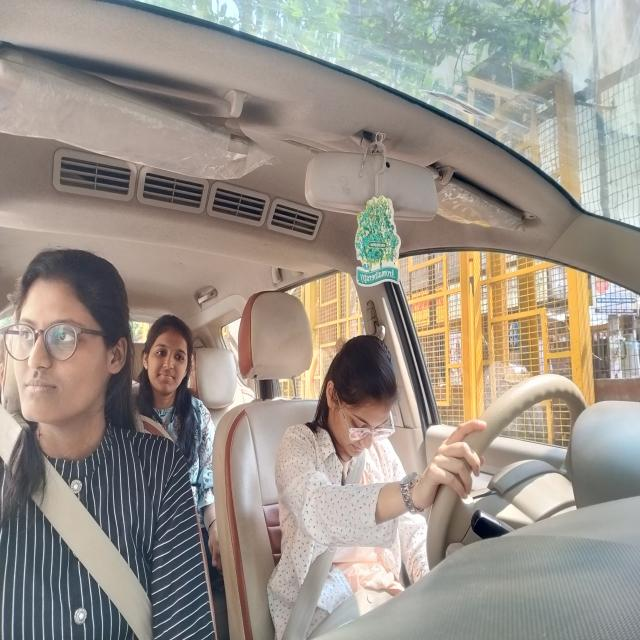drowsy: (322, 332, 400, 468)
person: (8, 247, 128, 435), (141, 312, 197, 406)
